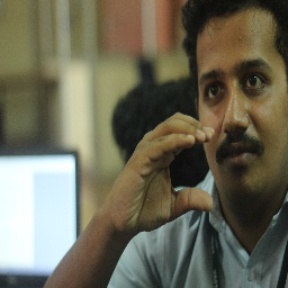C: (130, 108, 224, 224)
